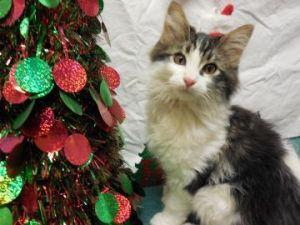ragdoll: (140, 4, 257, 118)
